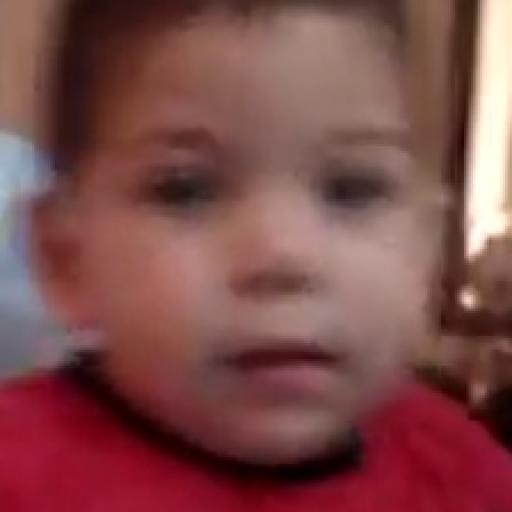Autism: (36, 10, 478, 464)
